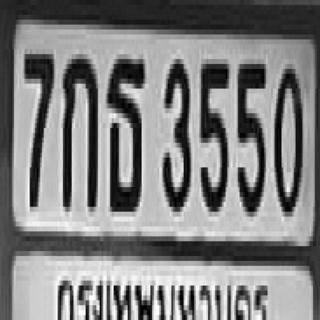A01: (61, 49, 96, 207)
A24: (105, 54, 144, 207)
N00: (273, 64, 301, 212)
N03: (161, 54, 189, 207)
N05: (236, 59, 264, 212), (199, 59, 227, 207)
N07: (23, 49, 52, 202)
